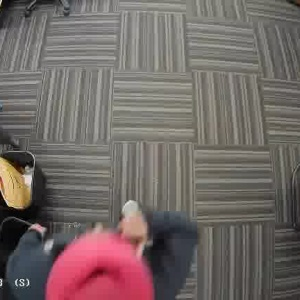person: (11, 215, 190, 300)
